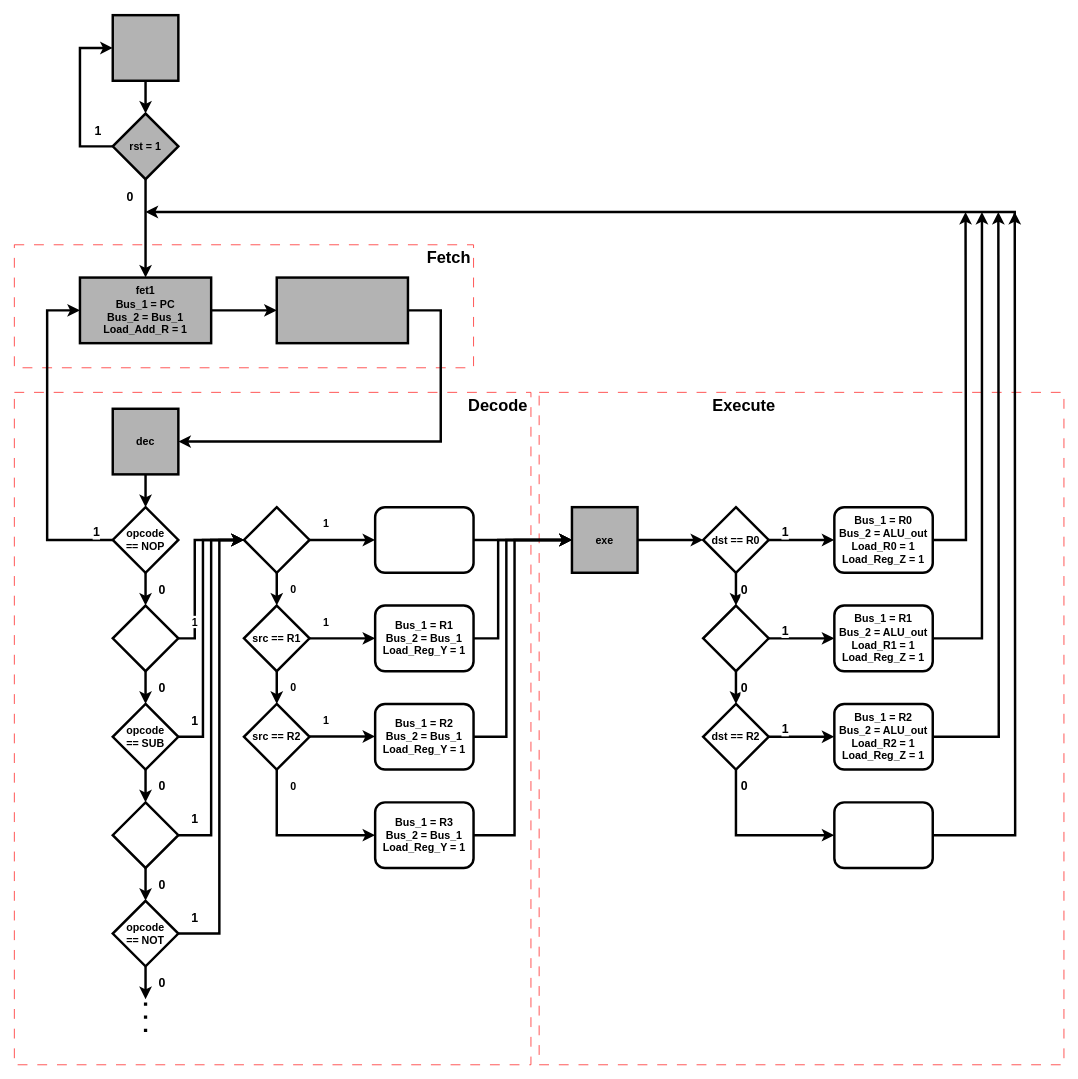
The diagram is 1078 pixels wide and 1079 high, and some of its shapes have lost their labels. Each missing label, with the centre of its shape:
Bus_1 = R0 Bus_2 = Bus_1 Load_Reg_Y = 1: pixel 424 540
Bus_1 = R3 Bus_2 = ALU_out Load_R3 = 1 Load_Reg_Z = 1: pixel 883 835
dst == R1: pixel 736 638
fet2 Bus_2 = mem_word Load_IR = 1 Inc_PC = 1: pixel 342 310
idle: pixel 145 48
opcode == ADD: pixel 145 638
opcode == AND: pixel 145 835
src == R0: pixel 276 540
